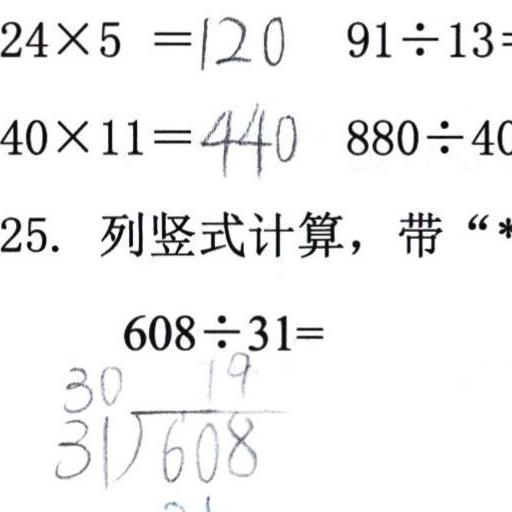ans: (197, 98, 299, 177), (192, 7, 286, 69)
